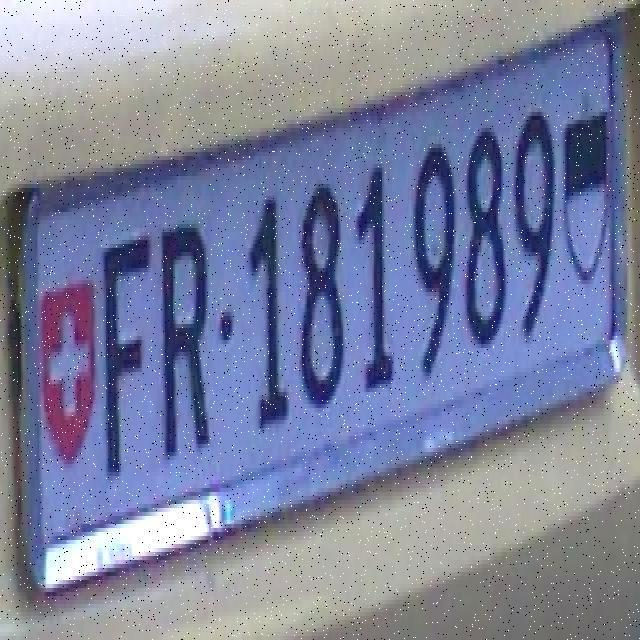LicensePlate: (3, 3, 635, 583)
